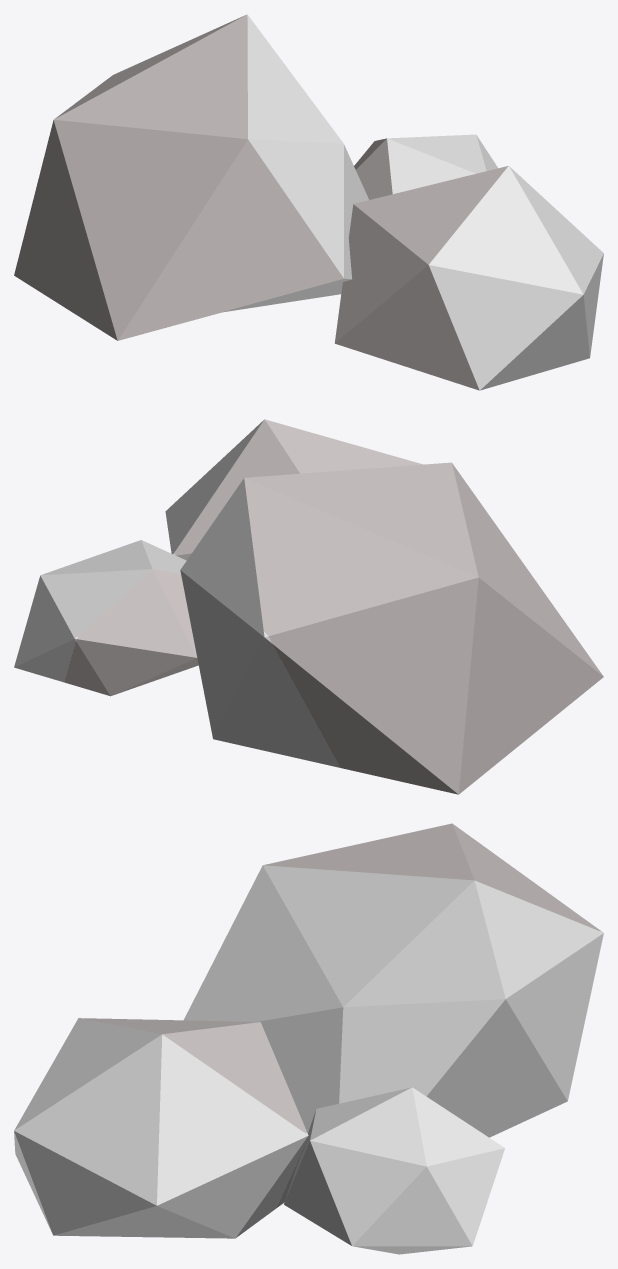
File: rock01.fbx
The picture shows the model from 3 angles, top to bottom: view 1: azimuth 30°, elevation 25°; view 2: azimuth 150°, elevation 25°; view 3: azimuth 270°, elevation 25°; orthographic projection. The views are drawn at different scales.
Visible parts, largest first — view 1: Icosphere.002; view 2: Icosphere.002; view 3: Icosphere.002.
Part boxes in pixels (left/top/right/bottom): Icosphere.002: left=14, top=14, right=603, bottom=390; Icosphere.002: left=14, top=419, right=603, bottom=794; Icosphere.002: left=14, top=823, right=603, bottom=1254.
Bounding box in the file's own units: 73.01 × 38.69 × 73.27.
